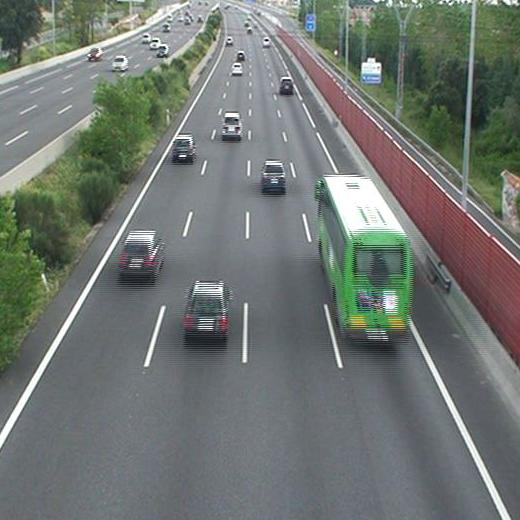bus: (316, 175, 411, 342)
car: (184, 282, 228, 337), (118, 230, 163, 277), (261, 161, 286, 188), (172, 136, 194, 158), (222, 113, 242, 137), (279, 78, 293, 91), (232, 63, 243, 74), (262, 37, 271, 48), (236, 51, 245, 60), (226, 37, 233, 45)
